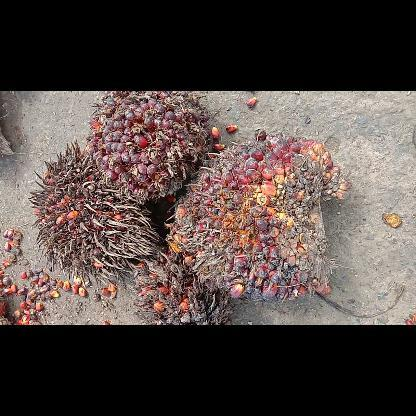TBS masak: (165, 129, 345, 302), (86, 91, 210, 203)
Terlalu masak: (29, 139, 157, 289), (132, 248, 230, 324)
